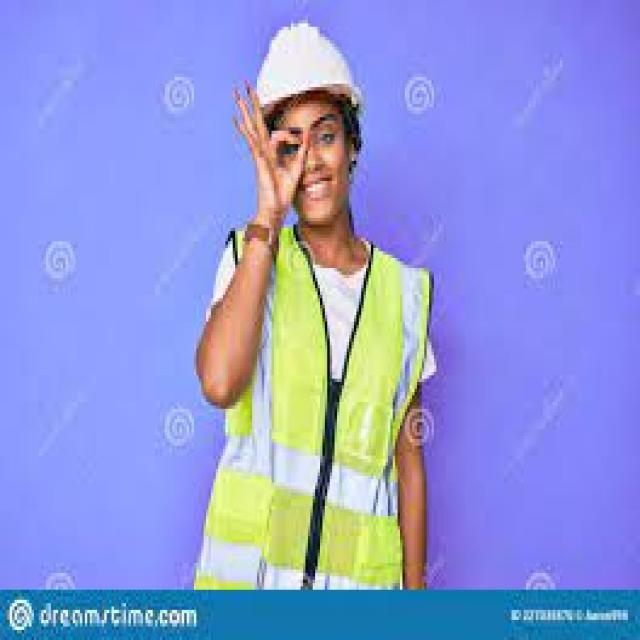reflective_jacket: (189, 221, 438, 593)
safety_helmet: (247, 17, 363, 123)
